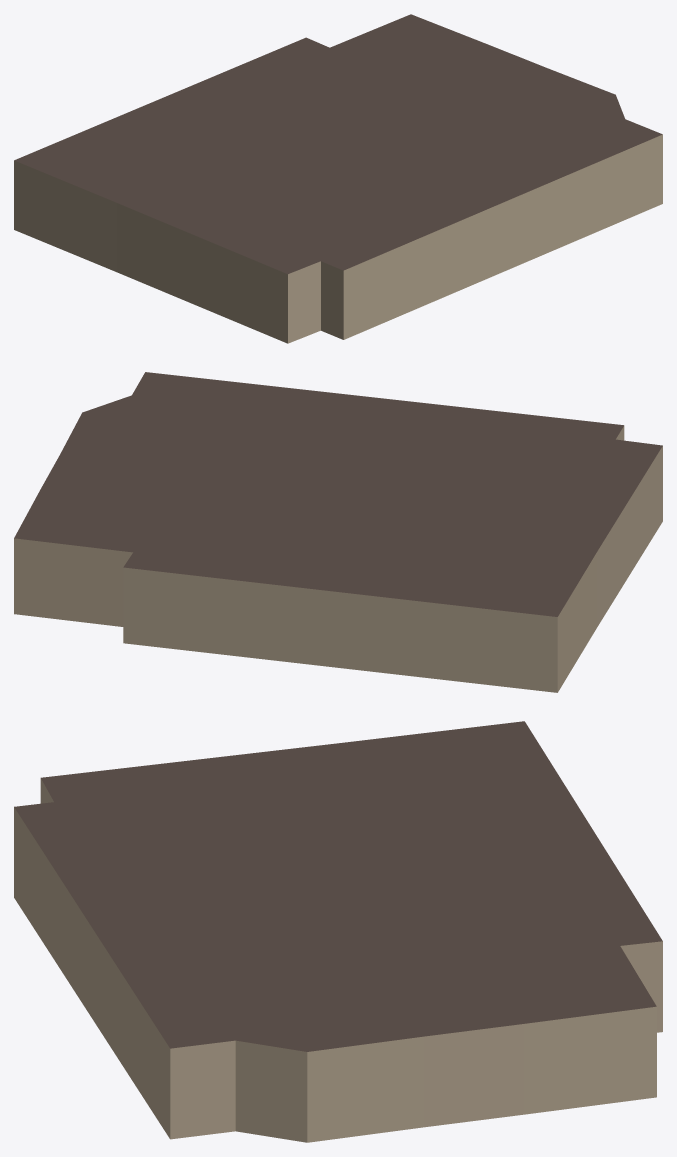
3 views of the same model, one above another, from view 1: azimuth 30°, elevation 25°; view 2: azimuth 150°, elevation 25°; view 3: azimuth 270°, elevation 25° (orthographic). The views are drawn at different scales.
Visible parts, largest first — view 1: HP-w380340030; view 2: HP-w380340030; view 3: HP-w380340030.
Boxes of the visible parts, bbox=[...] form: HP-w380340030: bbox=[14, 14, 662, 343]; HP-w380340030: bbox=[14, 372, 662, 692]; HP-w380340030: bbox=[14, 721, 662, 1142].
Bounding box in the file's own units: 46.89 × 6 × 38.87.
